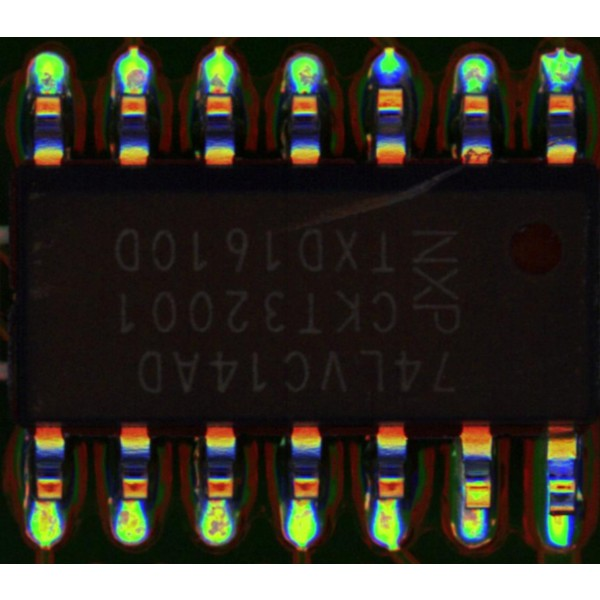Bad_podu: (209, 84, 228, 106), (550, 506, 568, 527), (465, 501, 484, 519)
